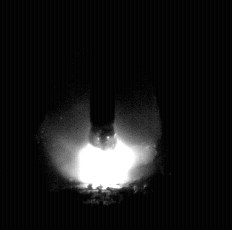arame: (91, 0, 116, 149)
poca: (45, 0, 156, 230)
